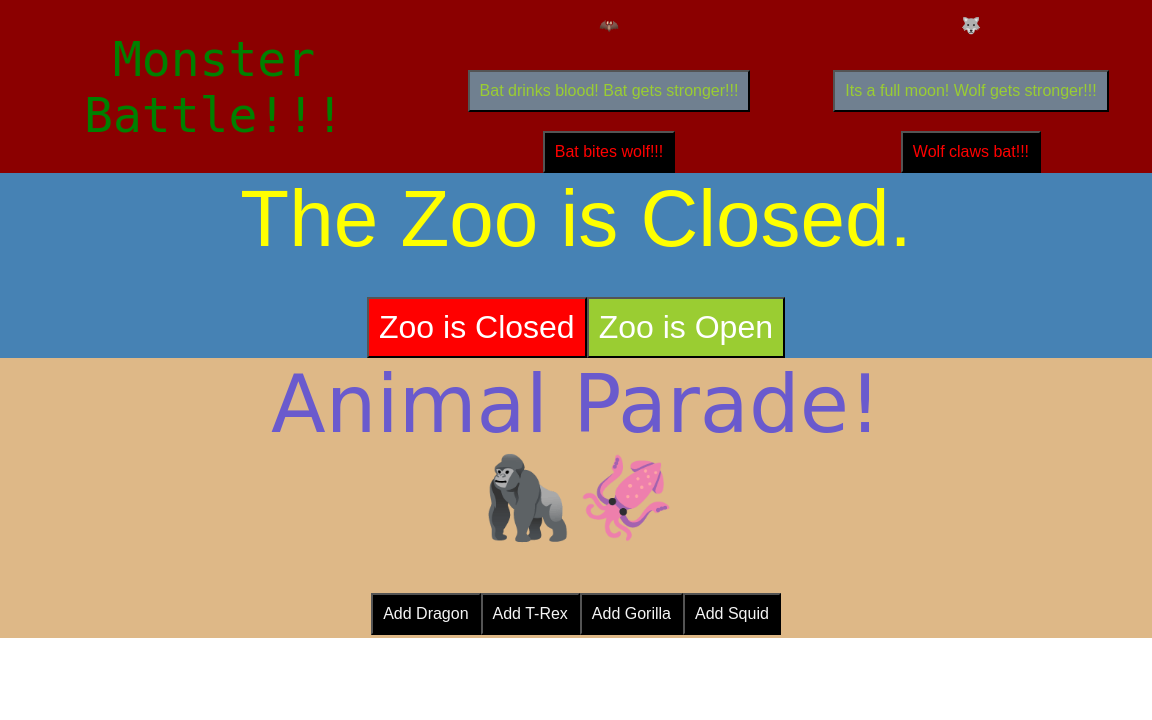
it: change "The Zoo is Closed" to "The Zoo is OPEN!!!"
Expected: the text "The Zoo is Closed." is shown, [240,173,912,265]
Click the button "Zoo is Open".
click(686, 328)  # box [587,297,785,358]
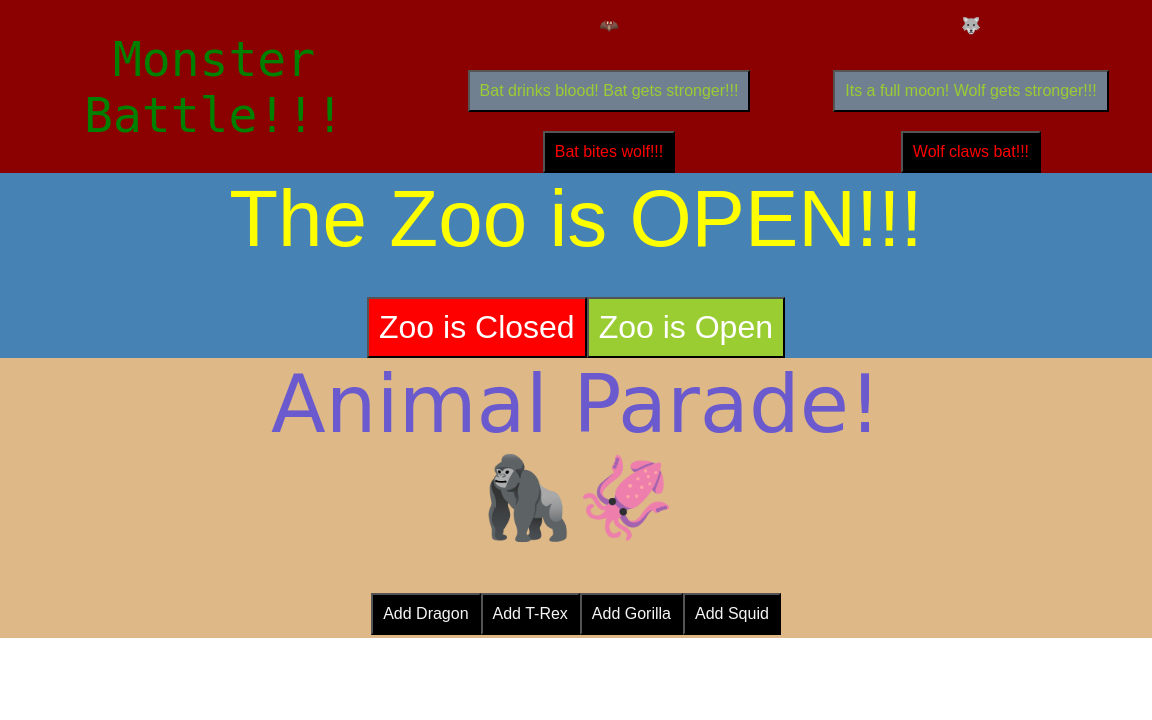
Expected: the text "The Zoo is OPEN!!!" is shown, [229,173,923,265]
